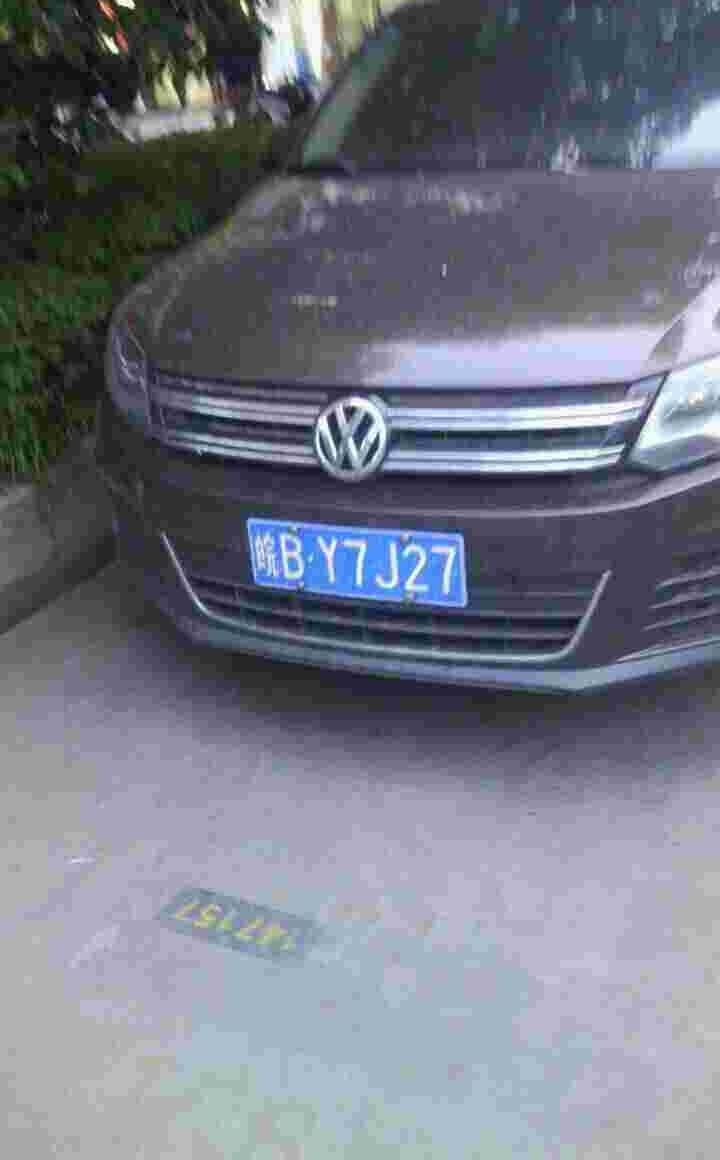plate: (244, 514, 470, 611)
